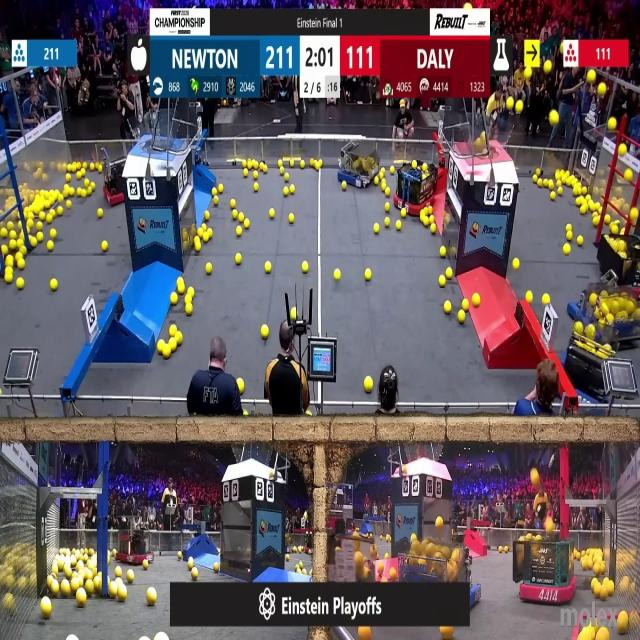ball_airborne: (550, 110, 560, 126), (359, 626, 370, 640), (630, 208, 639, 222), (531, 469, 539, 484), (487, 98, 495, 113), (608, 116, 616, 130), (544, 519, 552, 533), (598, 85, 606, 98), (543, 61, 551, 74), (589, 70, 597, 83), (626, 169, 634, 182), (524, 68, 532, 80), (517, 101, 524, 114), (611, 121, 618, 134), (621, 144, 628, 156), (436, 518, 442, 529), (507, 98, 512, 111)
ball_ground: (41, 598, 52, 618), (75, 589, 86, 607), (147, 588, 156, 606), (363, 377, 372, 393), (61, 582, 71, 596), (117, 587, 126, 602), (237, 379, 245, 394), (86, 581, 95, 594), (262, 324, 270, 338), (471, 293, 479, 306), (193, 238, 200, 252), (15, 278, 23, 290), (49, 280, 57, 292), (445, 302, 453, 314), (458, 311, 465, 324), (128, 569, 135, 582), (5, 254, 13, 265), (541, 293, 549, 304), (16, 260, 24, 271), (185, 305, 192, 317), (46, 241, 54, 251), (514, 259, 520, 272), (290, 308, 296, 321), (440, 276, 447, 287), (446, 269, 453, 280), (564, 244, 571, 255), (190, 568, 197, 579), (395, 219, 402, 230), (364, 270, 371, 281), (170, 342, 177, 353), (441, 246, 447, 258), (265, 329, 271, 341), (172, 292, 178, 304), (101, 238, 107, 250), (176, 334, 182, 346), (526, 290, 532, 302), (170, 325, 177, 335), (565, 232, 572, 242), (115, 567, 122, 577), (449, 246, 456, 256), (29, 238, 36, 248), (389, 568, 396, 578), (374, 223, 381, 233), (266, 263, 272, 274), (303, 263, 309, 274), (336, 270, 342, 281), (206, 265, 212, 276), (236, 253, 242, 264), (462, 300, 468, 311), (188, 558, 194, 569), (0, 230, 8, 238), (8, 231, 15, 240), (184, 293, 191, 302), (288, 213, 294, 223), (49, 230, 55, 240), (576, 236, 582, 246), (231, 200, 237, 210), (102, 242, 108, 252), (237, 228, 243, 238), (65, 201, 72, 209), (8, 240, 15, 248), (37, 234, 44, 242), (213, 197, 220, 205), (1, 246, 8, 254), (98, 209, 104, 218), (58, 207, 64, 216), (384, 217, 390, 226), (16, 239, 22, 248), (373, 222, 378, 232), (197, 238, 202, 248), (430, 224, 436, 232), (439, 279, 445, 287), (233, 211, 239, 219), (80, 188, 86, 196), (400, 209, 405, 218), (289, 184, 294, 193), (385, 204, 390, 212), (299, 162, 304, 170), (46, 214, 51, 222), (143, 561, 148, 569), (381, 169, 386, 177), (218, 185, 223, 192), (264, 166, 269, 173), (178, 553, 182, 561), (386, 187, 390, 195), (244, 170, 248, 178), (289, 161, 293, 169), (385, 554, 390, 560), (244, 411, 248, 418), (504, 545, 508, 552), (50, 209, 54, 215), (553, 194, 556, 202), (216, 200, 218, 204)
goal: (461, 118, 515, 158), (130, 117, 186, 152)
robot_blue: (401, 534, 482, 612), (564, 328, 618, 407), (576, 289, 640, 353), (338, 141, 379, 189)
robot_red: (517, 526, 577, 604), (396, 161, 438, 212), (118, 530, 153, 564), (103, 168, 124, 205)
